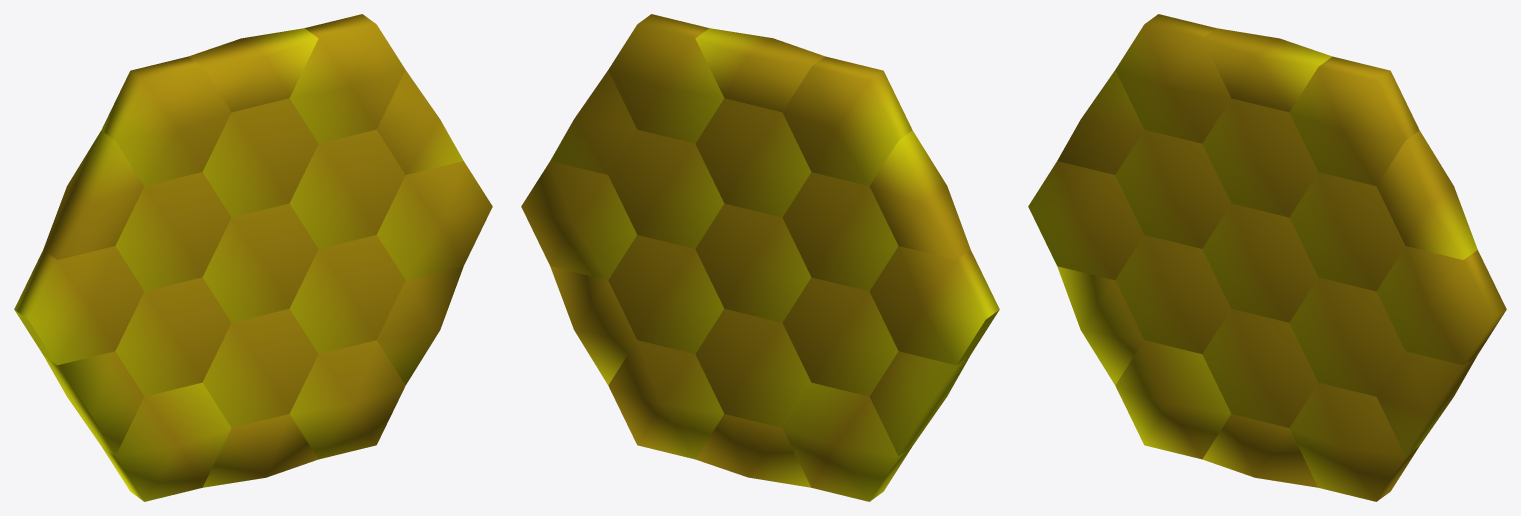
Rendered from powerUpCura.fbx.
3 renders of one model, left to right at view 1: azimuth 30°, elevation 25°; view 2: azimuth 150°, elevation 25°; view 3: azimuth 330°, elevation 25°, orthographic.
Visible parts, largest first — view 1: powerUpMel; view 2: powerUpMel; view 3: powerUpMel.
Boxes of the visible parts, bbox=[...] form: powerUpMel: bbox=[14, 14, 492, 501]; powerUpMel: bbox=[521, 14, 999, 501]; powerUpMel: bbox=[1028, 14, 1506, 501].
Bounding box in the file's own units: 162 × 140 × 15.15.
